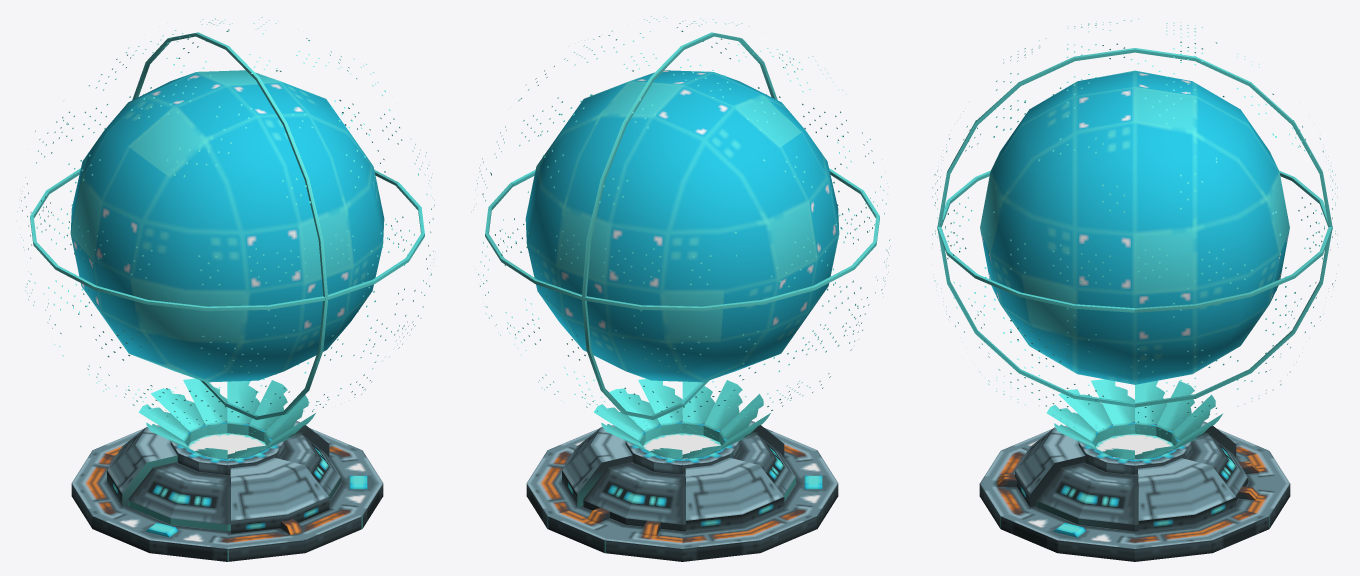
Rendered from WorldSettingsHologram.fbx.
The picture shows the model from 3 angles, left to right: view 1: azimuth 30°, elevation 25°; view 2: azimuth 150°, elevation 25°; view 3: azimuth 270°, elevation 25°; orthographic projection.
Parts seen in each view (by area): view 1: InnerSphere, Base, BaseGlow, Ring1, Ring2, DotSphere; view 2: InnerSphere, Base, BaseGlow, Ring1, Ring2, DotSphere; view 3: InnerSphere, Base, BaseGlow, Ring1, Ring2, DotSphere.
Boxes of the visible parts, bbox=[...] form: InnerSphere: bbox=[70, 70, 384, 382]; Base: bbox=[71, 420, 383, 561]; BaseGlow: bbox=[138, 378, 315, 459]; Ring1: bbox=[132, 32, 328, 419]; Ring2: bbox=[30, 168, 424, 311]; DotSphere: bbox=[17, 17, 434, 436]; InnerSphere: bbox=[525, 70, 839, 382]; Base: bbox=[526, 416, 838, 561]; BaseGlow: bbox=[593, 379, 770, 459]; Ring1: bbox=[581, 32, 777, 419]; Ring2: bbox=[485, 168, 879, 311]; DotSphere: bbox=[471, 16, 890, 436]; InnerSphere: bbox=[980, 70, 1289, 384]; Base: bbox=[979, 421, 1290, 561]; BaseGlow: bbox=[1046, 379, 1222, 459]; Ring1: bbox=[937, 48, 1332, 407]; Ring2: bbox=[937, 170, 1332, 312]; DotSphere: bbox=[932, 18, 1338, 438].
Bounding box in the file's own units: 29.87 × 35.93 × 29.87.
